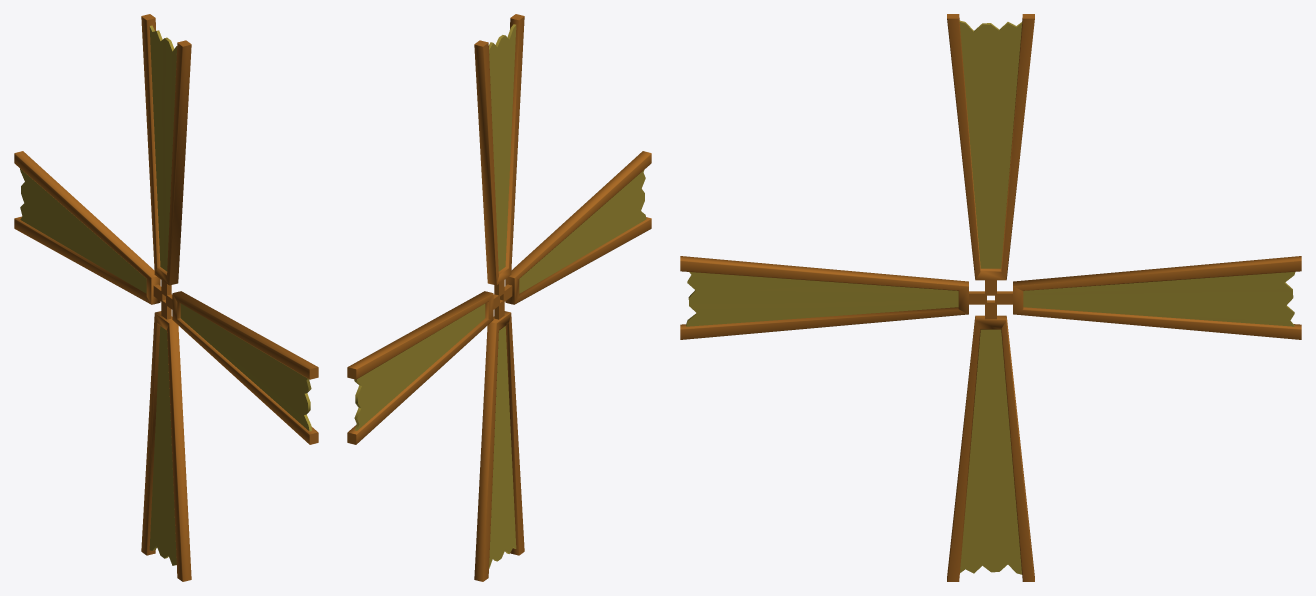
Rendered from Wildmillwind.glb.
The picture shows the model from 3 angles, left to right: view 1: azimuth 30°, elevation 25°; view 2: azimuth 150°, elevation 25°; view 3: azimuth 270°, elevation 25°; orthographic projection. The views are drawn at different scales.
Visible parts, largest first — view 1: WingsWildmill_RedTeam; view 2: WingsWildmill_RedTeam; view 3: WingsWildmill_RedTeam.
Part boxes in pixels (x1,y1,x2,y2): WingsWildmill_RedTeam: [14, 14, 318, 581]; WingsWildmill_RedTeam: [347, 14, 651, 581]; WingsWildmill_RedTeam: [680, 14, 1301, 581].
Bounding box in the file's own units: 0.5162 × 28.82 × 28.82.
